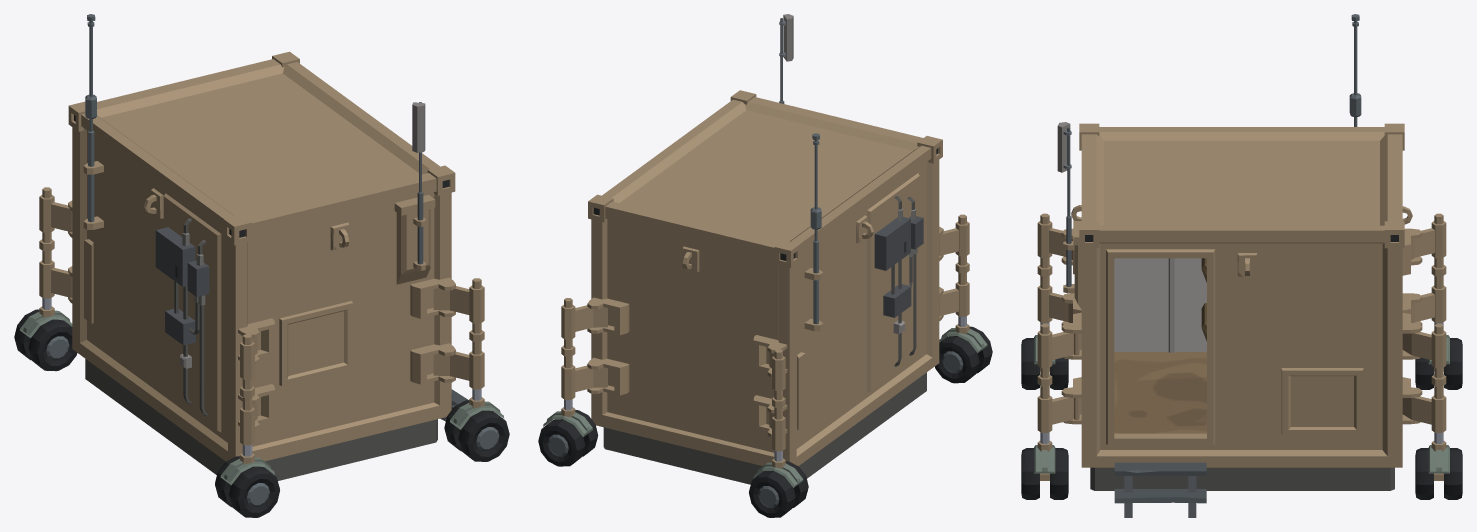
The model's file is SM_Prop_Drone_Control_Room_02.fbx.
3 renders of one model, left to right at view 1: azimuth 30°, elevation 25°; view 2: azimuth 150°, elevation 25°; view 3: azimuth 270°, elevation 25°, orthographic. The views are drawn at different scales.
Parts seen in each view (by area): view 1: SM_Prop_Drone_Control_Room_02; view 2: SM_Prop_Drone_Control_Room_02; view 3: SM_Prop_Drone_Control_Room_02.
Boxes of the visible parts, x1,y1,x2,y2 form: SM_Prop_Drone_Control_Room_02: (14,14,509,517); SM_Prop_Drone_Control_Room_02: (538,14,992,517); SM_Prop_Drone_Control_Room_02: (1021,14,1462,517).
Size of the model in its own units: 332 by 407 by 438.
